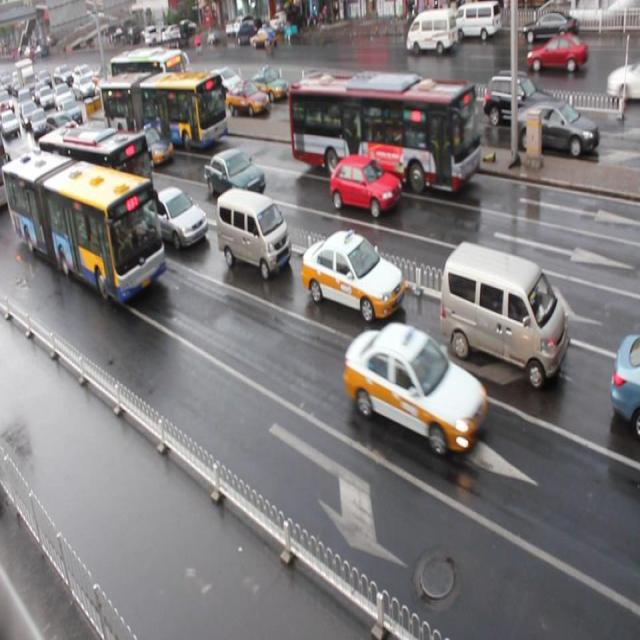car: (343, 320, 487, 457), (300, 228, 404, 321), (328, 153, 401, 217), (141, 185, 208, 250), (203, 147, 265, 203), (127, 124, 174, 168)
truck: (440, 240, 568, 386), (216, 186, 292, 276)
van: (0, 150, 166, 307), (288, 76, 479, 192), (38, 121, 156, 232), (102, 74, 226, 144)
